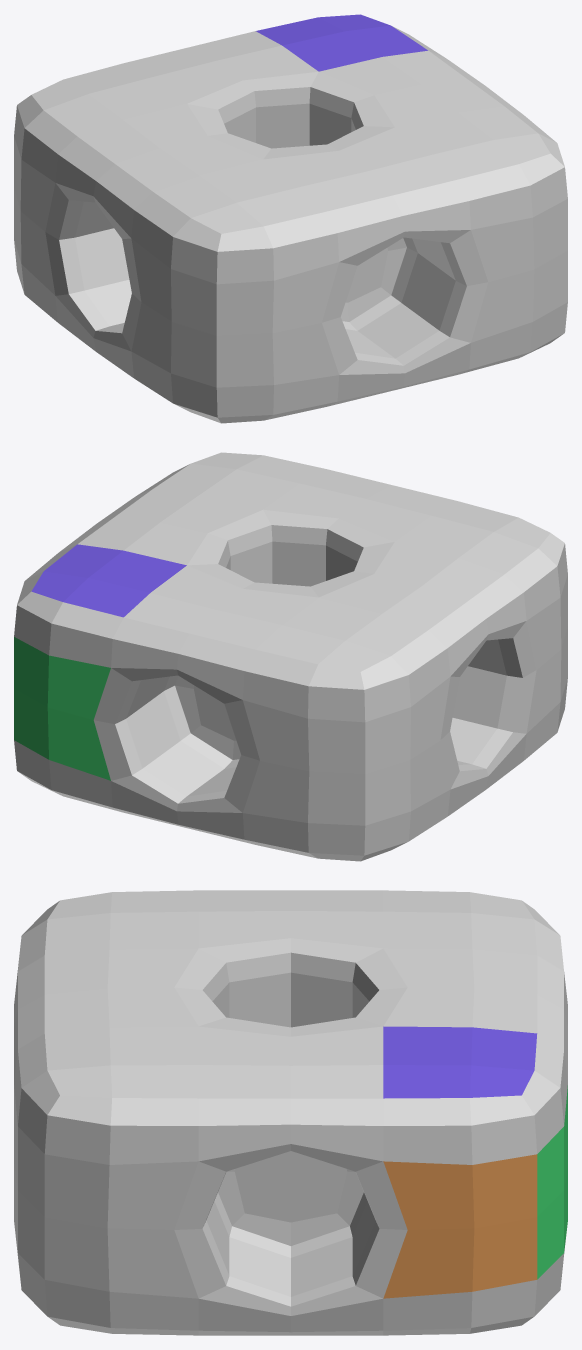
The picture shows the model from 3 angles, top to bottom: view 1: azimuth 30°, elevation 25°; view 2: azimuth 150°, elevation 25°; view 3: azimuth 270°, elevation 25°; orthographic projection. The views are drawn at different scales.
Parts seen in each view (by area): view 1: Base1; view 2: Base1; view 3: Base1.
Boxes of the visible parts, box(x1,y1,x2,y2) form: Base1: box(14, 14, 567, 423); Base1: box(14, 452, 567, 861); Base1: box(14, 890, 567, 1335).
Bounding box in the file's own units: 2 × 1 × 2.
